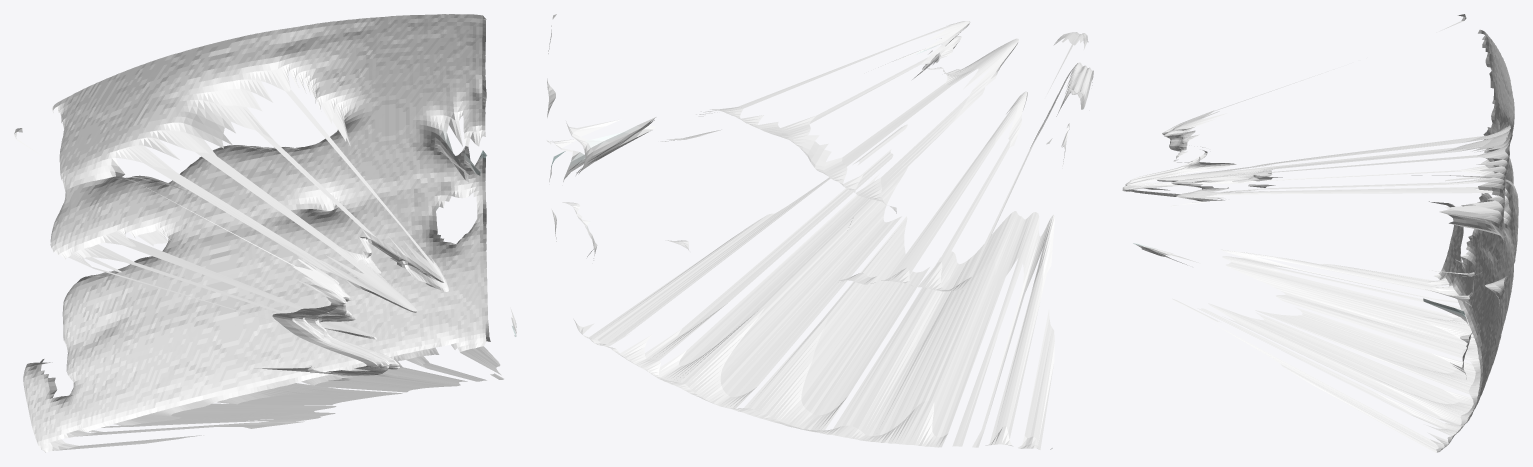
3 views of the same model, side by side, from view 1: azimuth 30°, elevation 25°; view 2: azimuth 150°, elevation 25°; view 3: azimuth 270°, elevation 25° (orthographic). The views are drawn at different scales.
Parts seen in each view (by area): view 1: defaultobject; view 2: defaultobject; view 3: defaultobject.
Boxes of the visible parts, <box> form: defaultobject: <box>14,14,516,452</box>; defaultobject: <box>546,14,1093,449</box>; defaultobject: <box>1122,14,1518,452</box>.
Bounding box in the file's own units: 40.66 × 27.66 × 35.8.
1 material, 1 textured.
